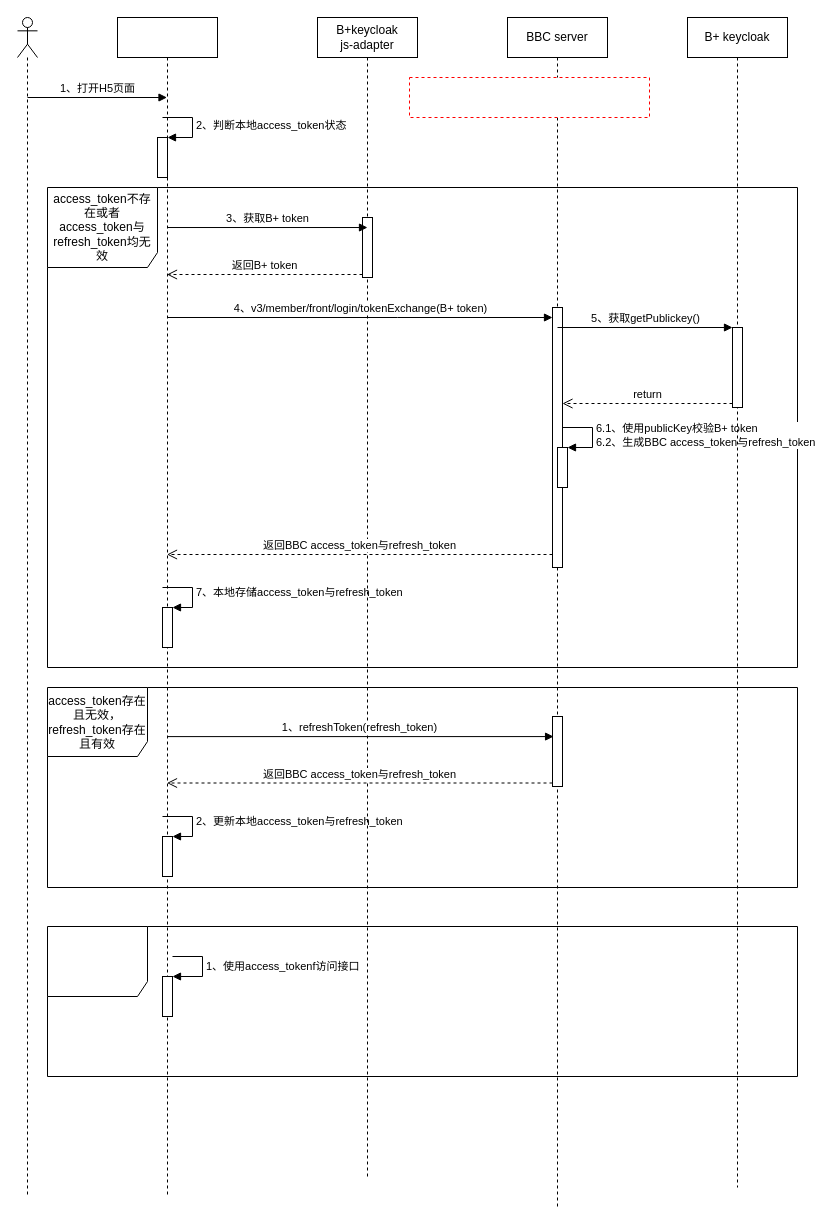
This 834x1225 diagram has some shape labels left out. Each missing label, with the centre of its shape:
acccess_token有效期为1个小时；refresh_token有效期为15天: the point at 529,97
access_token存在且有效: the point at 422,1001
BBC H5: the point at 167,607
